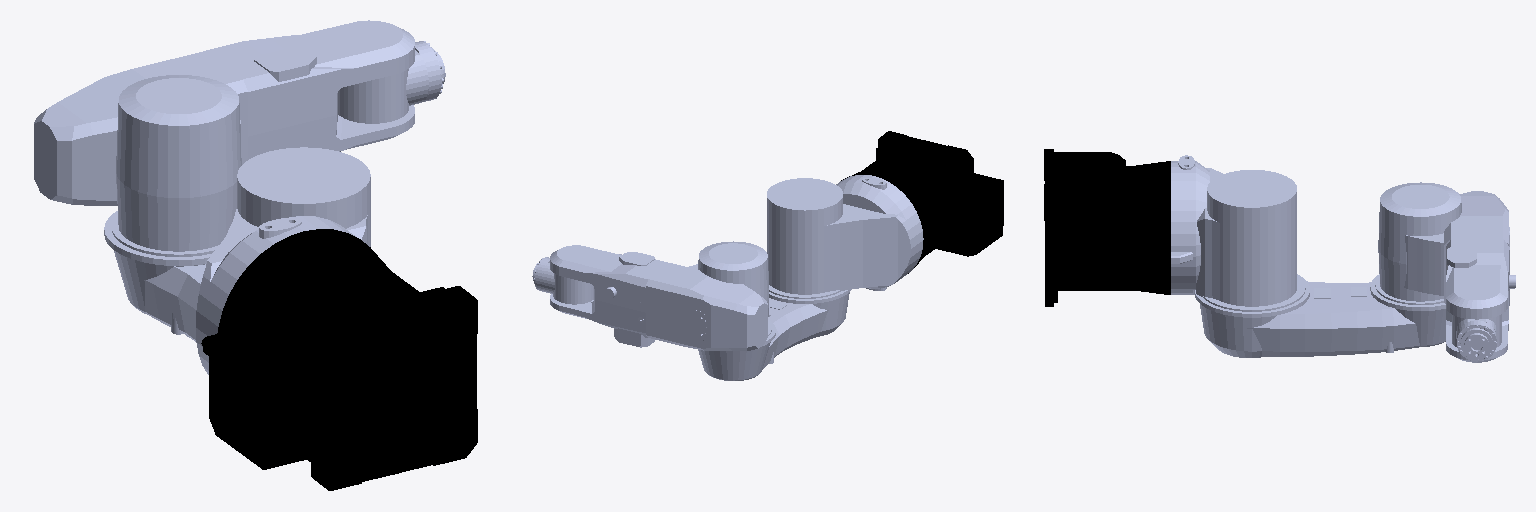
robot.urdf — KR5sixxR650WP_description:
<robot
  name="KR5sixxR650WP_description">
  <link name="world"/>
  <joint name="arm_to_world_fixed" type="fixed">
    <parent link="world"/>
    <child link="base_link"/>
    <origin xyz="0 -0.5 0" rpy="-1.57 0 0" />
  </joint>
  <link
    name="base_link">
    <inertial>
      <origin
        xyz="-0.017519394031846 8.11394768450848E-07 0.0975924044854325"
        rpy="0 0 0" />
      <mass
        value="7.58585707666653" />
      <inertia
        ixx="0.0441803207364147"
        ixy="5.37433593375545E-07"
        ixz="0.004045564920652"
        iyy="0.0584309411563095"
        iyz="-4.8990117845347E-07"
        izz="0.0514875586171667" />
    </inertial>
    <visual>
      <origin
        xyz="0 0 0"
        rpy="0 0 0" />
      <geometry>
        <mesh
          filename="meshes/base_link.STL" />
      </geometry>
      <material
        name="">
        <color
          rgba="0 0 0 1" />
      </material>
    </visual>
    <collision>
      <origin
        xyz="0 0 0"
        rpy="0 0 0" />
      <geometry>
        <mesh
          filename="meshes/base_link.STL" />
      </geometry>
    </collision>
  </link>
  <link
    name="shoulder">
    <inertial>
      <origin
        xyz="0.0359968408135882 -0.00783796591813503 0.0864969937502713"
        rpy="0 0 0" />
      <mass
        value="5.77242340173648" />
      <inertia
        ixx="0.0327019582662897"
        ixy="-0.00189987845379704"
        ixz="0.00937014136132958"
        iyy="0.0373787564144547"
        iyz="-0.00197023031658988"
        izz="0.0348614383349291" />
    </inertial>
    <visual>
      <origin
        xyz="0 0 0"
        rpy="0 0 0" />
      <geometry>
        <mesh
          filename="meshes/shoulder.STL" />
      </geometry>
      <material
        name="">
        <color
          rgba="0.792156862745098 0.819607843137255 0.933333333333333 1" />
      </material>
    </visual>
    <collision>
      <origin
        xyz="0 0 0"
        rpy="0 0 0" />
      <geometry>
        <mesh
          filename="meshes/shoulder.STL" />
      </geometry>
    </collision>
  </link>
  <joint
    name="shoulder_yaw"
    type="revolute">
    <origin
      xyz="0 0 0.203"
      rpy="0 0 0" />
    <parent
      link="base_link" />
    <child
      link="shoulder" />
    <axis
      xyz="0 0 1" />
    <limit
      lower="-2.9671"
      upper="2.9671"
      effort="0"
      velocity="6.545" />
  </joint>
  <link
    name="bicep">
    <inertial>
      <origin
        xyz="0.00610231661046294 0.0401115026555897 0.11531122862673"
        rpy="0 0 0" />
      <mass
        value="4.64974639735464" />
      <inertia
        ixx="0.0663459530931455"
        ixy="0.000173652478770081"
        ixz="0.000586191290902105"
        iyy="0.070407913174161"
        iyz="-0.00203071071007864"
        izz="0.0102816377550493" />
    </inertial>
    <visual>
      <origin
        xyz="0 0 0"
        rpy="0 0 0" />
      <geometry>
        <mesh
          filename="meshes/bicep.STL" />
      </geometry>
      <material
        name="">
        <color
          rgba="0.792156862745098 0.819607843137255 0.933333333333333 1" />
      </material>
    </visual>
    <collision>
      <origin
        xyz="0 0 0"
        rpy="0 0 0" />
      <geometry>
        <mesh
          filename="meshes/bicep.STL" />
      </geometry>
    </collision>
  </link>
  <joint
    name="shoulder_pitch"
    type="revolute">
    <origin
      xyz="0.075 0.0735 0.13"
      rpy="0 0 0" />
    <parent
      link="shoulder" />
    <child
      link="bicep" />
    <axis
      xyz="0 1 0" />
    <limit
      lower="-1.745329252"
      upper="2.35619449"
      effort="0"
      velocity="5.236" />
  </joint>
  <link
    name="elbow">
    <inertial>
      <origin
        xyz="0.00506472105904233 -0.0755031858462784 0.046481517407519"
        rpy="0 0 0" />
      <mass
        value="4.3593398708568" />
      <inertia
        ixx="0.0202008069207718"
        ixy="5.72394748332304E-05"
        ixz="0.000556621203065716"
        iyy="0.0246796752429931"
        iyz="0.000697020296811431"
        izz="0.0178067561136726" />
    </inertial>
    <visual>
      <origin
        xyz="0 0 0"
        rpy="0 0 0" />
      <geometry>
        <mesh
          filename="meshes/elbow.STL" />
      </geometry>
      <material
        name="">
        <color
          rgba="0.792156862745098 0.819607843137255 0.933333333333333 1" />
      </material>
    </visual>
    <collision>
      <origin
        xyz="0 0 0"
        rpy="0 0 0" />
      <geometry>
        <mesh
          filename="meshes/elbow.STL" />
      </geometry>
    </collision>
  </link>
  <joint
    name="elbow_pitch"
    type="revolute">
    <origin
      xyz="0 -0.00549999999999999 0.27"
      rpy="0 0 0" />
    <parent
      link="bicep" />
    <child
      link="elbow" />
    <axis
      xyz="0 1 0" />
    <limit
      lower="-3.647738137"
      upper="0.959931089"
      effort="0"
      velocity="6.545" />
  </joint>
  <link
    name="forearm">
    <inertial>
      <origin
        xyz="0.0857493724873204 -0.00271609825446984 0.00149370513017266"
        rpy="0 0 0" />
      <mass
        value="2.06809715541017" />
      <inertia
        ixx="0.00444943757623485"
        ixy="-0.000424915429214687"
        ixz="-0.000117340671961173"
        iyy="0.00882693069799353"
        iyz="0.000136971152627904"
        izz="0.0101131228921778" />
    </inertial>
    <visual>
      <origin
        xyz="0 0 0"
        rpy="0 0 0" />
      <geometry>
        <mesh
          filename="meshes/forearm.STL" />
      </geometry>
      <material
        name="">
        <color
          rgba="0.792156862745098 0.819607843137255 0.933333333333333 1" />
      </material>
    </visual>
    <collision>
      <origin
        xyz="0 0 0"
        rpy="0 0 0" />
      <geometry>
        <mesh
          filename="meshes/forearm.STL" />
      </geometry>
    </collision>
  </link>
  <joint
    name="elbow_roll"
    type="revolute">
    <origin
      xyz="0.10599996023205 -0.0680006418263501 0.0900000000000001"
      rpy="0 0 0" />
    <parent
      link="elbow" />
    <child
      link="forearm" />
    <axis
      xyz="1 0 0" />
    <limit
      lower="-3.3161"
      upper="3.3161"
      effort="0"
      velocity="7.1558" />
  </joint>
  <link
    name="wrist">
    <inertial>
      <origin
        xyz="0.0056566550065284 0.029516726474605 0"
        rpy="0 0 0" />
      <mass
        value="0.328309098974388" />
      <inertia
        ixx="0.000221789219477276"
        ixy="-9.59628913869705E-07"
        ixz="1.40395663663479E-20"
        iyy="0.000321152451627032"
        iyz="-4.44973606670705E-20"
        izz="0.000275966419870925" />
    </inertial>
    <visual>
      <origin
        xyz="0 0 0"
        rpy="0 0 0" />
      <geometry>
        <mesh
          filename="meshes/wrist.STL" />
      </geometry>
      <material
        name="">
        <color
          rgba="0.792156862745098 0.819607843137255 0.933333333333333 1" />
      </material>
    </visual>
    <collision>
      <origin
        xyz="0 0 0"
        rpy="0 0 0" />
      <geometry>
        <mesh
          filename="meshes/wrist.STL" />
      </geometry>
    </collision>
  </link>
  <joint
    name="wrist_pitch"
    type="revolute">
    <origin
      xyz="0.187000000000001 -0.0289999999999998 0"
      rpy="0 0 0" />
    <parent
      link="forearm" />
    <child
      link="wrist" />
    <axis
      xyz="0 1 0" />
    <limit
      lower="-2.094395102"
      upper="2.094395102"
      effort="0"
      velocity="7.1558" />
  </joint>
  <link
    name="palm">
    <inertial>
      <origin
        xyz="0.00983949894991115 -2.78372724487979E-05 -1.11022302462516E-15"
        rpy="0 0 0" />
      <mass
        value="0.0789494717998531" />
      <inertia
        ixx="3.53285039019399E-05"
        ixy="-3.23299732456798E-08"
        ixz="-6.9643163510009E-19"
        iyy="2.30177957763861E-05"
        iyz="-9.26550270485857E-19"
        izz="2.28539400944714E-05" />
    </inertial>
    <visual>
      <origin
        xyz="0 0 0"
        rpy="0 0 0" />
      <geometry>
        <mesh
          filename="meshes/palm.STL" />
      </geometry>
      <material
        name="">
        <color
          rgba="0.792156862745098 0.819607843137255 0.933333333333333 1" />
      </material>
    </visual>
    <collision>
      <origin
        xyz="0 0 0"
        rpy="0 0 0" />
      <geometry>
        <mesh
          filename="meshes/palm.STL" />
      </geometry>
    </collision>
  </link>
  <joint
    name="wrist_roll"
    type="revolute">
    <origin
      xyz="0.0519999999999999 0.0289999999999996 0"
      rpy="0 0 0" />
    <parent
      link="wrist" />
    <child
      link="palm" />
    <axis
      xyz="1 0 0" />
    <limit
      lower="-6.24827872"
      upper="6.24827872"
      effort="0"
      velocity="11.5191731" />
  </joint>
</robot>

--- What the picture shows (computed from the rendered views, not written in the file) ---
The picture shows the robot from 3 angles, left to right: view 1: azimuth 30°, elevation 25°; view 2: azimuth 150°, elevation 25°; view 3: azimuth 270°, elevation 25°; orthographic projection.
Model KR5sixxR650WP_description with 8 links and 7 joints (6 revolute, 1 fixed), rooted at world, posed all joints at 0.
Links seen in each view (by area): view 1: base_link, elbow, forearm, shoulder, bicep, wrist, palm; view 2: shoulder, elbow, base_link, forearm, bicep, wrist; view 3: shoulder, base_link, bicep, elbow, forearm, palm, wrist.
Boxes of the visible links, x1,y1,x2,y2 form: base_link: [201, 229, 477, 490]; elbow: [34, 51, 247, 256]; forearm: [205, 20, 414, 159]; shoulder: [196, 147, 370, 374]; bicep: [104, 211, 212, 341]; wrist: [338, 50, 428, 123]; palm: [415, 41, 445, 101]; shoulder: [767, 175, 923, 298]; elbow: [646, 241, 771, 350]; base_link: [841, 131, 1003, 273]; forearm: [550, 245, 669, 347]; bicep: [698, 290, 850, 380]; wrist: [542, 263, 593, 304]; shoulder: [1171, 155, 1305, 311]; base_link: [1044, 149, 1170, 306]; bicep: [1194, 274, 1445, 357]; elbow: [1375, 182, 1509, 304]; forearm: [1446, 239, 1515, 362]; palm: [1457, 320, 1496, 361]; wrist: [1452, 314, 1501, 347].
Bounding box of the posed robot: 0.614 × 0.7551 × 0.2795 m (x, y, z).
Meshes: 7 distinct files referenced, 7 mesh visuals loaded (7 binary STL).